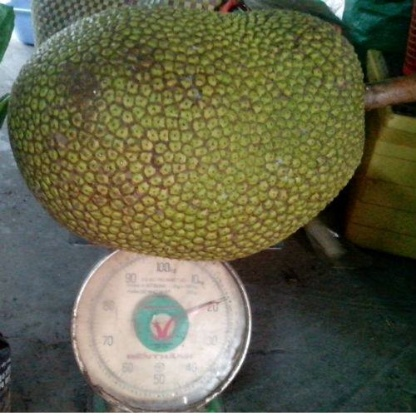mit: (12, 3, 374, 272)
